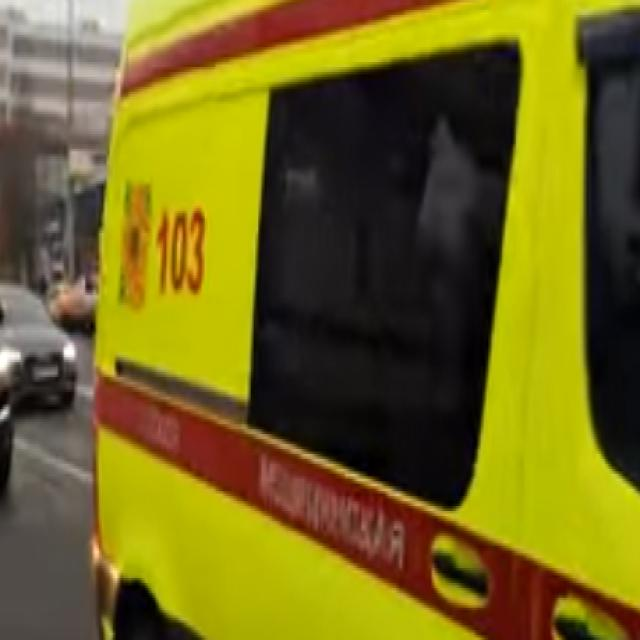intensive care unit: (97, 1, 640, 640)
non emergency car: (2, 275, 77, 417)
